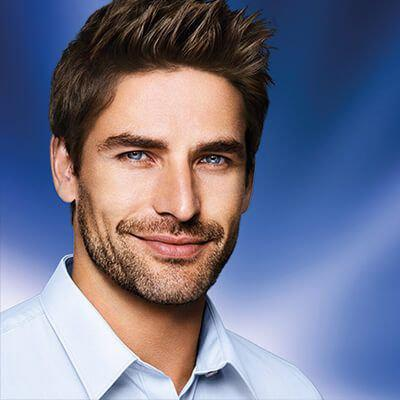Sober: (91, 83, 240, 282)
